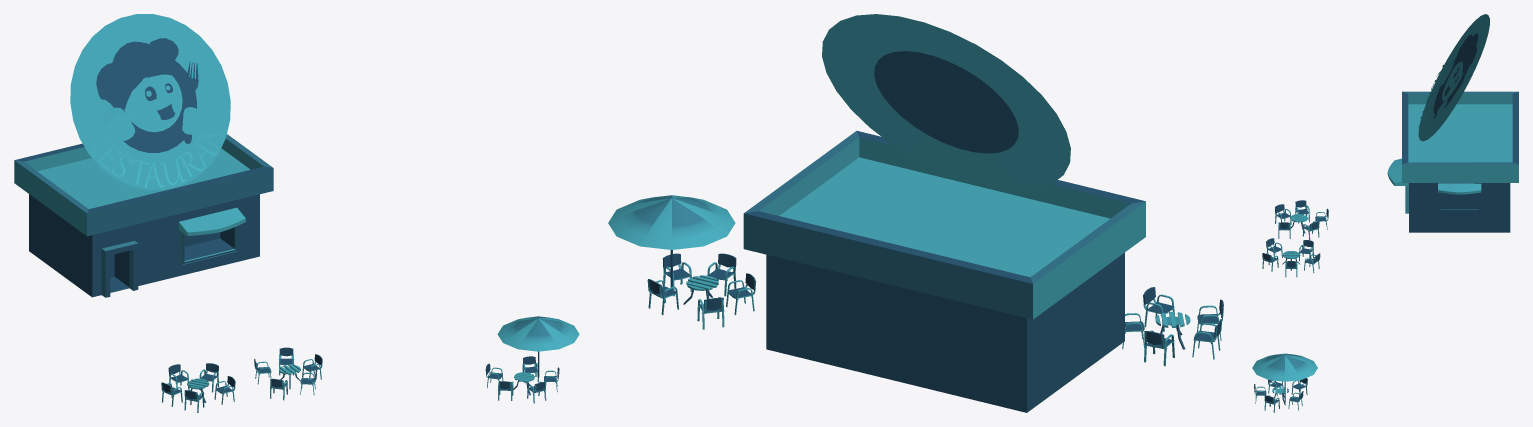
The model's file is Restaurant_LV4.FBX.
The picture shows the model from 3 angles, left to right: view 1: azimuth 30°, elevation 25°; view 2: azimuth 150°, elevation 25°; view 3: azimuth 270°, elevation 25°; orthographic projection. The views are drawn at different scales.
Parts seen in each view (by area): view 1: Restaurant; view 2: Restaurant; view 3: Restaurant.
Boxes of the visible parts, x1,y1,x2,y2 form: Restaurant: (14,14,579,412); Restaurant: (608,14,1223,412); Restaurant: (1252,14,1518,412).
Size of the model in its own units: 37.96 by 30.12 by 26.41.
